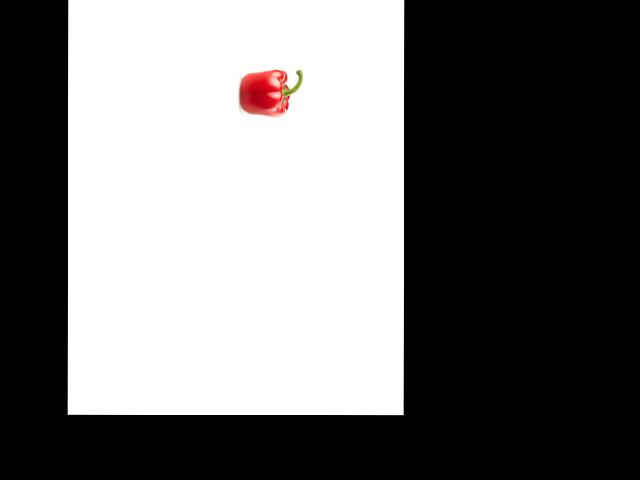bell_pepper: (239, 68, 303, 115)
